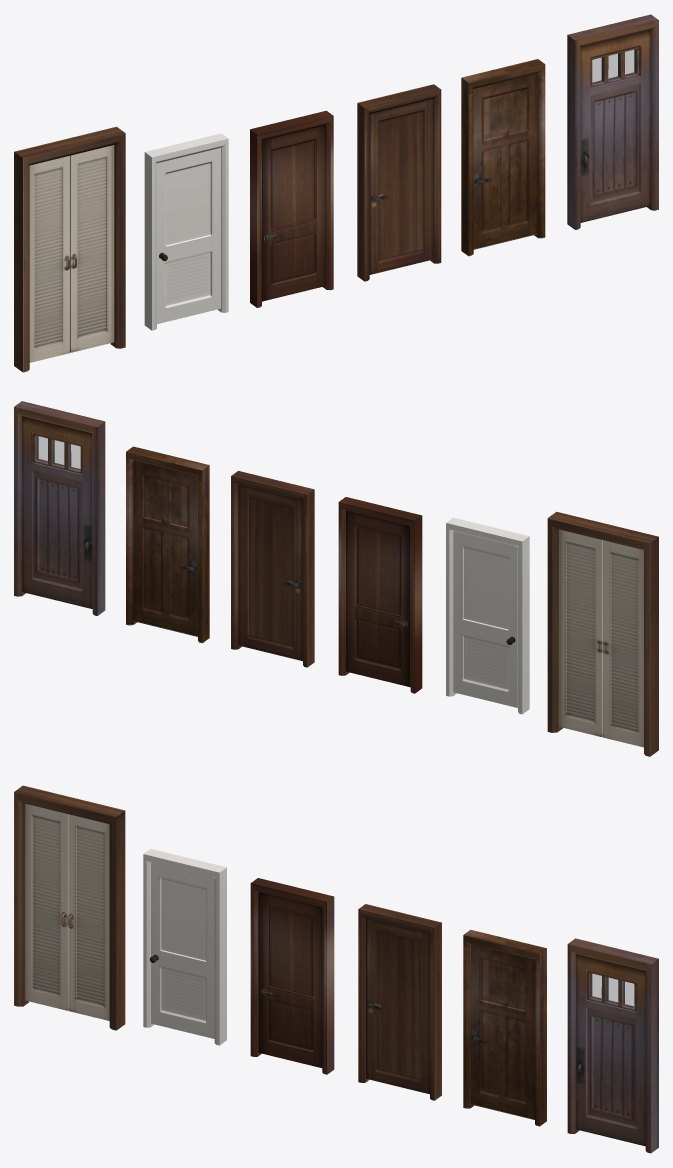
Rendered from low-poly_psx_style_essential_doors_pack.glb.
3 renders of one model, top to bottom at view 1: azimuth 30°, elevation 25°; view 2: azimuth 150°, elevation 25°; view 3: azimuth 330°, elevation 25°, orthographic.
Parts seen in each view (by area): view 1: Front Door_006.001, Wooden Door_009.001, Worn Door_004.001, Wooden Door_001.001, Bathroom Door_002.001, Closet Door_001.001, Closet Door_002.001, Closet Doorframe_001.001, Front Doorframe_003.001, Worn Doorframe_004.001, Wooden Doorframe_001.002, Bathroom Doorframe_001.001 (+1 smaller); view 2: Front Door_006.001, Wooden Door_009.001, Bathroom Door_002.001, Worn Door_004.001, Wooden Door_001.001, Closet Door_001.001, Closet Door_002.001, Closet Doorframe_001.001, Front Doorframe_003.001, Wooden Doorframe_009.002, Worn Doorframe_004.001, Bathroom Doorframe_001.001 (+1 smaller); view 3: Front Door_006.001, Wooden Door_009.001, Wooden Door_001.001, Bathroom Door_002.001, Worn Door_004.001, Closet Door_002.001, Closet Door_001.001, Closet Doorframe_001.001, Front Doorframe_003.001, Wooden Doorframe_009.002, Bathroom Doorframe_001.001, Worn Doorframe_004.001 (+1 smaller).
Boxes of the visible parts, x1,y1,x2,y2 form: Front Door_006.001: (580, 30, 650, 222); Wooden Door_009.001: (262, 125, 326, 301); Worn Door_004.001: (473, 73, 537, 249); Wooden Door_001.001: (369, 98, 433, 274); Bathroom Door_002.001: (157, 147, 220, 324); Closet Door_001.001: (70, 145, 114, 352); Closet Door_002.001: (29, 156, 69, 362); Closet Doorframe_001.001: (14, 126, 125, 372); Front Doorframe_003.001: (567, 14, 658, 229); Worn Doorframe_004.001: (461, 59, 545, 256); Wooden Doorframe_001.002: (357, 84, 441, 281); Bathroom Doorframe_001.001: (144, 133, 228, 330); Front Door_006.001: (22, 416, 92, 608); Wooden Door_009.001: (346, 510, 410, 687); Bathroom Door_002.001: (453, 531, 517, 707); Worn Door_004.001: (133, 460, 197, 636); Wooden Door_001.001: (238, 484, 302, 661); Closet Door_001.001: (559, 529, 602, 737); Closet Door_002.001: (603, 540, 643, 747); Closet Doorframe_001.001: (547, 511, 658, 756); Front Doorframe_003.001: (14, 401, 105, 615); Wooden Doorframe_009.002: (338, 497, 422, 693); Worn Doorframe_004.001: (126, 446, 209, 643); Bathroom Doorframe_001.001: (446, 517, 529, 714); Front Door_006.001: (576, 954, 645, 1146); Wooden Door_009.001: (258, 892, 322, 1067); Wooden Door_001.001: (366, 918, 429, 1094); Bathroom Door_002.001: (151, 863, 214, 1038); Worn Door_004.001: (471, 944, 534, 1119); Closet Door_002.001: (25, 803, 68, 1010); Closet Door_001.001: (68, 814, 109, 1020); Closet Doorframe_001.001: (14, 785, 125, 1030); Front Doorframe_003.001: (567, 938, 658, 1153); Wooden Doorframe_009.002: (250, 878, 334, 1074); Bathroom Doorframe_001.001: (143, 848, 226, 1045); Worn Doorframe_004.001: (463, 929, 546, 1126).
Bounding box in the file's own units: 7.46 × 2.4 × 0.2489.
2 materials, 1 textured.
